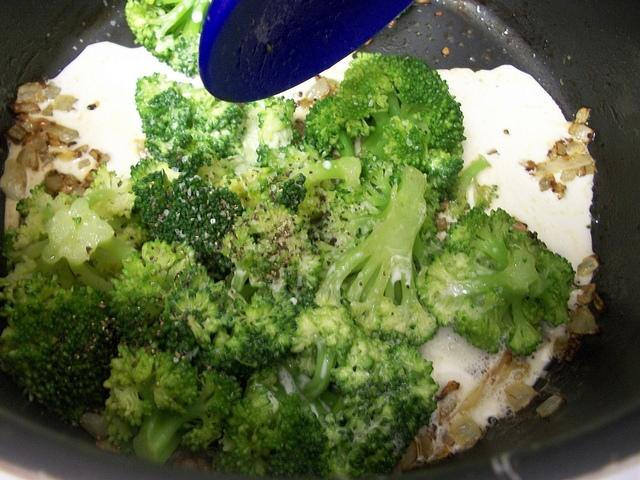broccoli: (302, 52, 467, 202), (416, 206, 576, 356), (314, 164, 439, 348), (1, 270, 123, 428), (314, 335, 439, 480), (102, 342, 241, 466), (104, 238, 236, 359), (208, 360, 326, 480), (134, 71, 248, 180), (130, 169, 244, 257), (194, 284, 299, 376), (34, 198, 136, 292), (125, 0, 212, 79), (291, 306, 358, 400), (256, 95, 311, 175), (284, 156, 362, 210), (271, 172, 307, 213)
